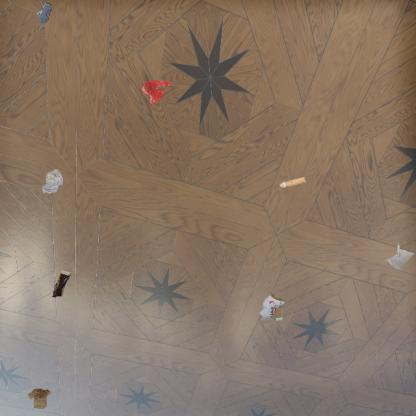dirty: (258, 291, 288, 323), (384, 241, 416, 271), (40, 168, 64, 196), (52, 269, 72, 299), (26, 387, 52, 410), (277, 175, 307, 190)
liquid: (142, 79, 172, 104), (36, 2, 52, 24)
